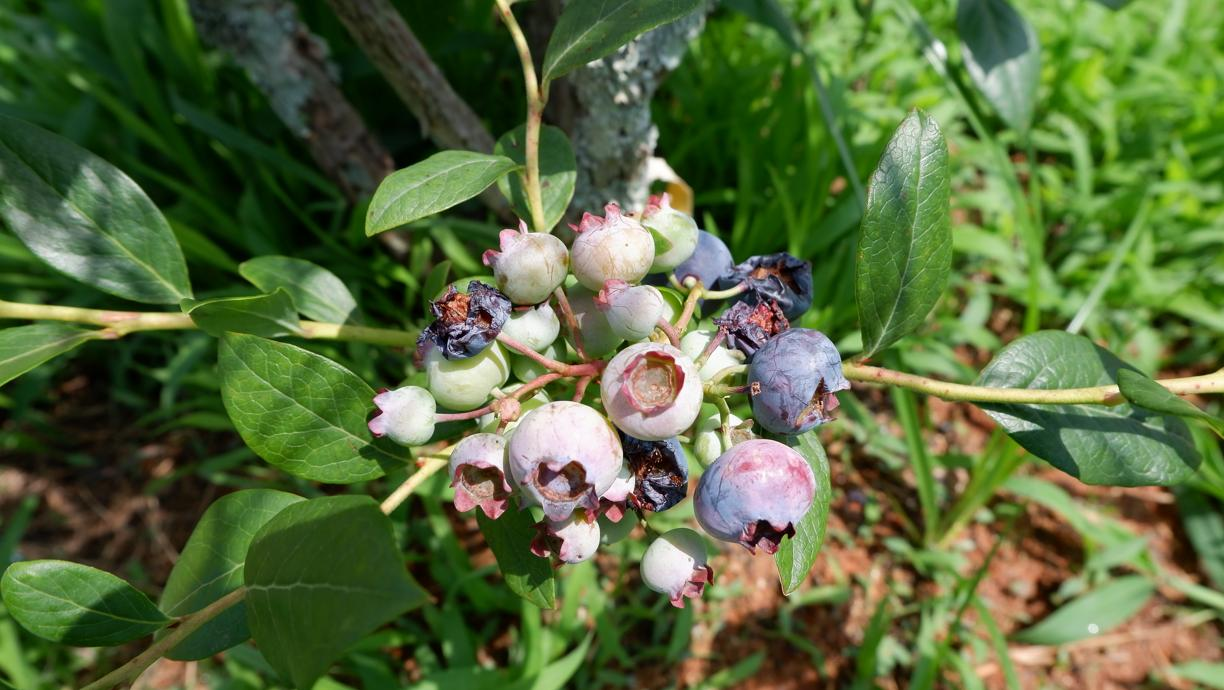Immature: (509, 401, 624, 522), (600, 342, 704, 442), (568, 203, 656, 291), (416, 334, 512, 412), (483, 218, 569, 304), (550, 268, 627, 364), (624, 191, 700, 274), (447, 433, 520, 519), (640, 528, 714, 607), (530, 507, 600, 573), (627, 285, 700, 348), (474, 382, 553, 440), (366, 386, 436, 448), (594, 278, 664, 339), (495, 294, 560, 356), (692, 413, 762, 469), (680, 329, 746, 385), (583, 458, 636, 524), (507, 332, 569, 380), (596, 507, 636, 545)
Mature: (693, 438, 817, 556), (747, 327, 851, 436), (636, 230, 736, 316), (424, 281, 512, 359), (719, 252, 814, 322), (712, 296, 792, 362), (623, 434, 688, 511)
